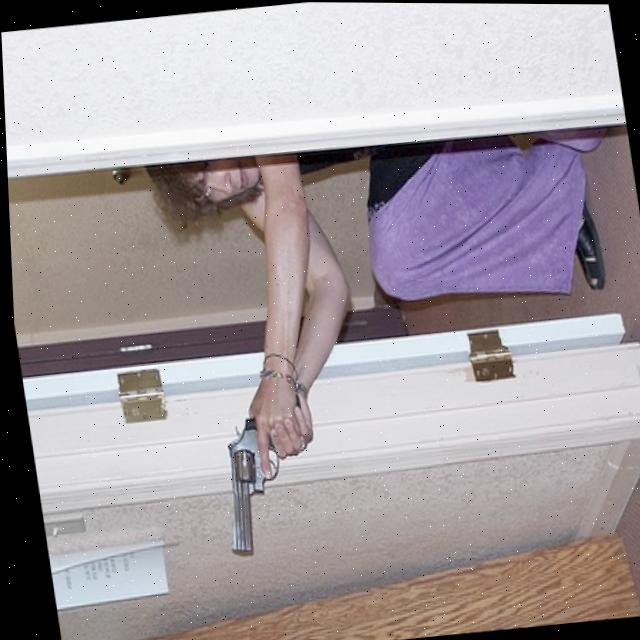pistol: (203, 413, 291, 563)
